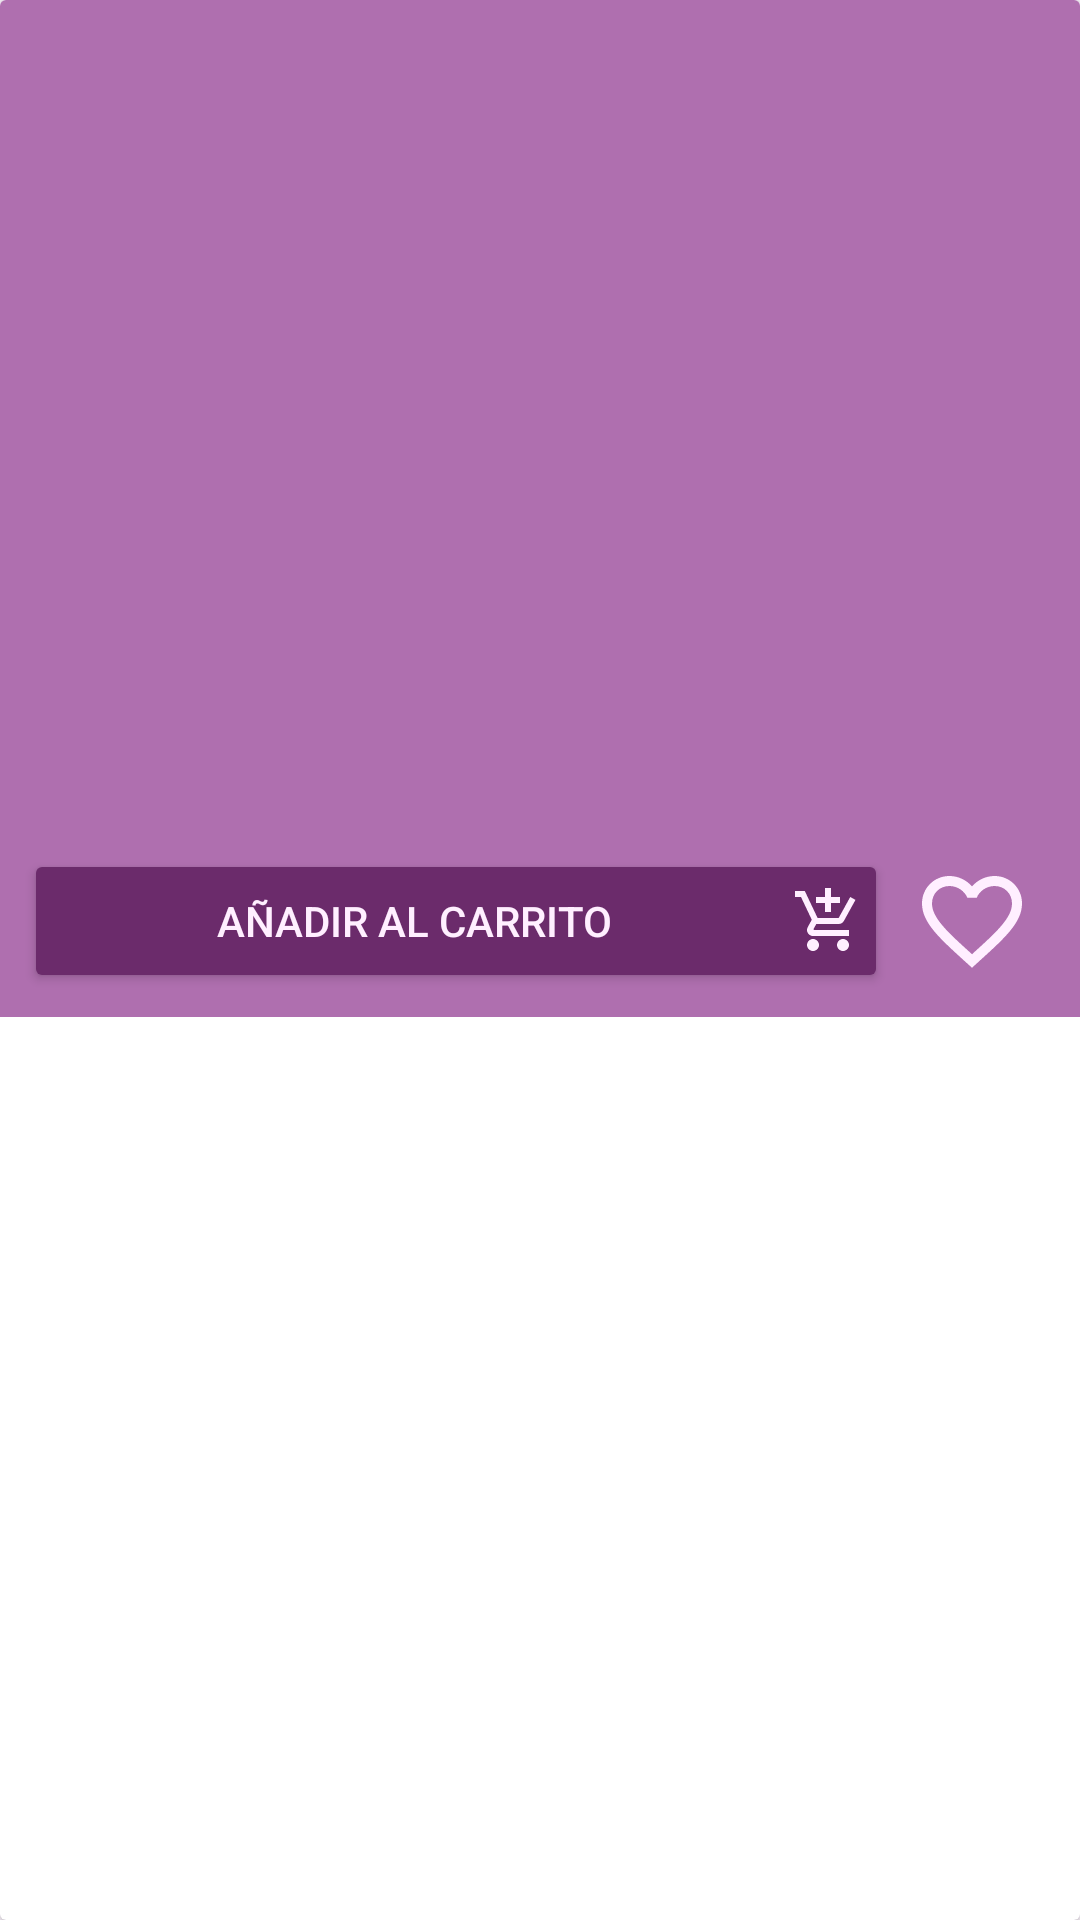

Where to tap for icons on this 1080×1920 app screen, as (x,y):
heart: (972,922)
